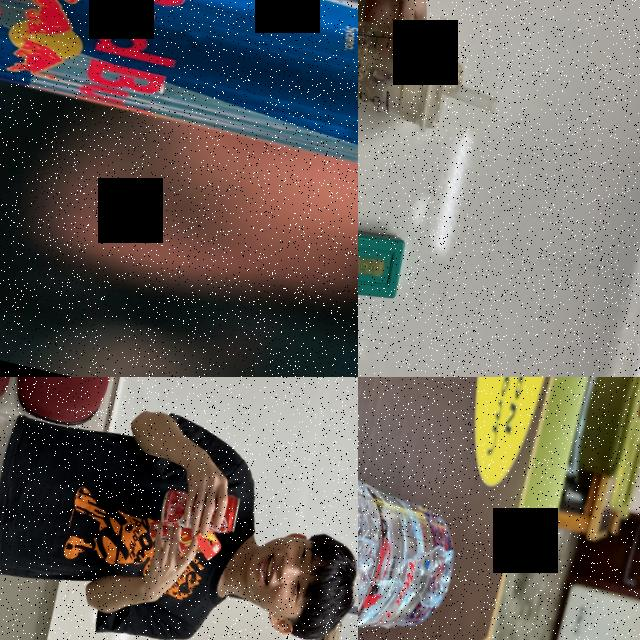bottle: (358, 432, 474, 640)
can: (0, 0, 358, 181), (154, 480, 242, 542)
cup: (358, 0, 461, 136)
